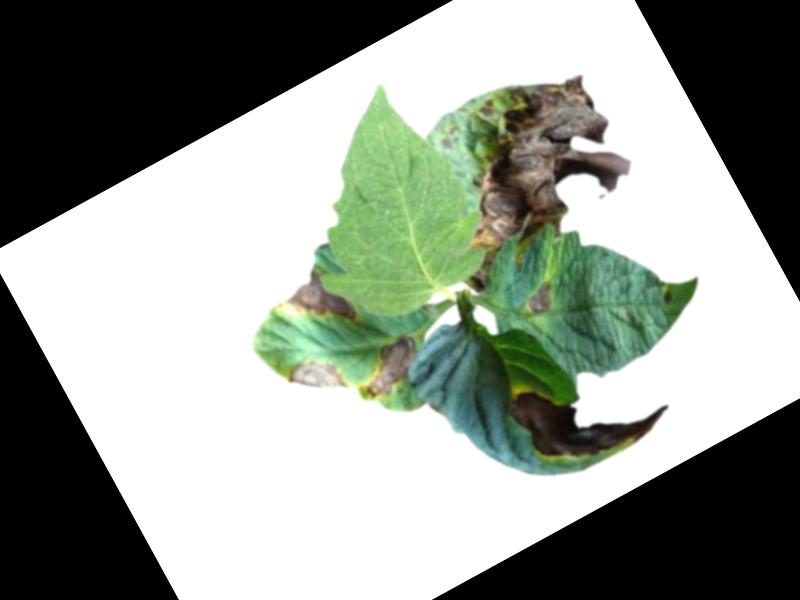Early_blight: (411, 52, 646, 276), (496, 330, 675, 490), (274, 260, 360, 346), (347, 327, 431, 404), (281, 346, 349, 412), (519, 280, 560, 319), (462, 265, 492, 297), (658, 288, 673, 304)
healthy: (248, 69, 505, 343)
